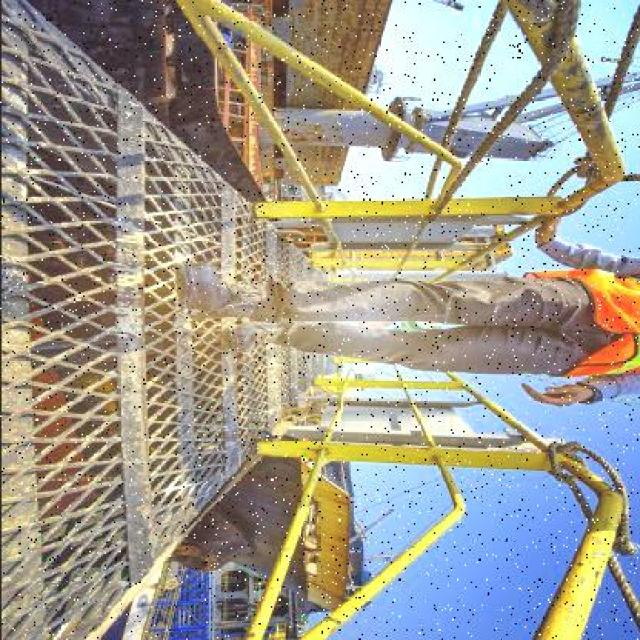shoes: (173, 268, 261, 317), (222, 324, 282, 354)
